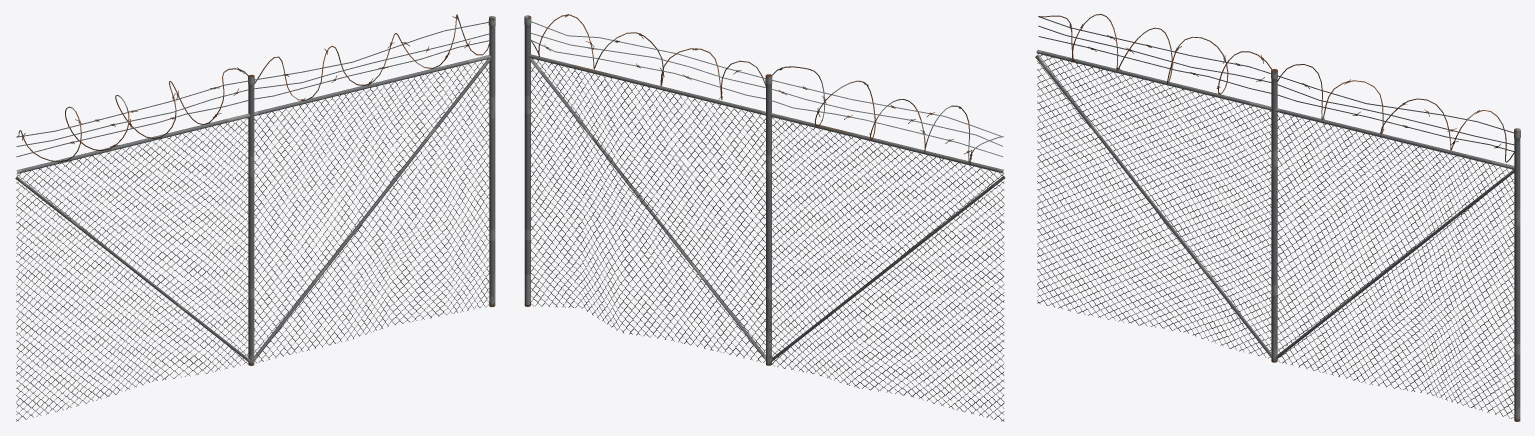
The picture shows the model from 3 angles, left to right: view 1: azimuth 30°, elevation 25°; view 2: azimuth 150°, elevation 25°; view 3: azimuth 330°, elevation 25°; orthographic projection.
Visible parts, largest first — view 1: body0_model0_lod0_mesh1, body0_model0_lod0_mesh0; view 2: body0_model0_lod0_mesh1, body0_model0_lod0_mesh0; view 3: body0_model0_lod0_mesh1, body0_model0_lod0_mesh0.
Boxes of the visible parts, <box> form: body0_model0_lod0_mesh1: <box>16,59,489,421</box>; body0_model0_lod0_mesh0: <box>15,14,495,365</box>; body0_model0_lod0_mesh1: <box>530,58,1004,421</box>; body0_model0_lod0_mesh0: <box>524,14,1005,365</box>; body0_model0_lod0_mesh1: <box>1037,54,1514,418</box>; body0_model0_lod0_mesh0: <box>1035,14,1520,421</box>.
Bounding box in the file's own units: 32.21 × 19.37 × 3.39.
Materials: 2 (2 with a texture image).
